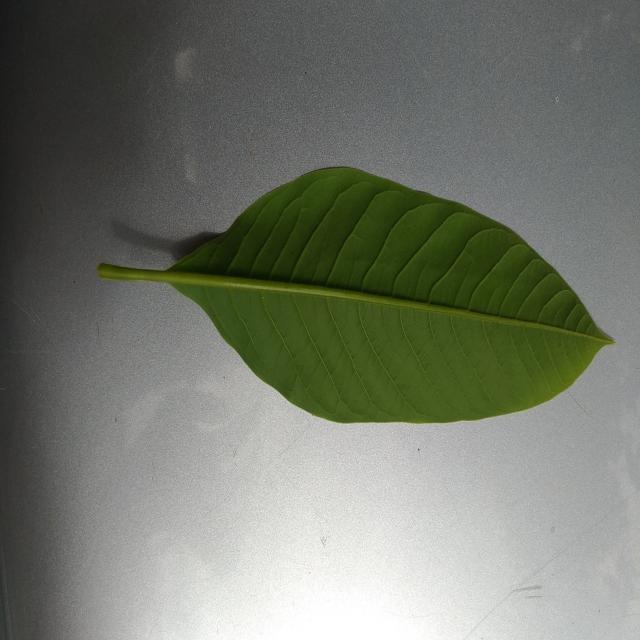coffee: (99, 167, 612, 422)
